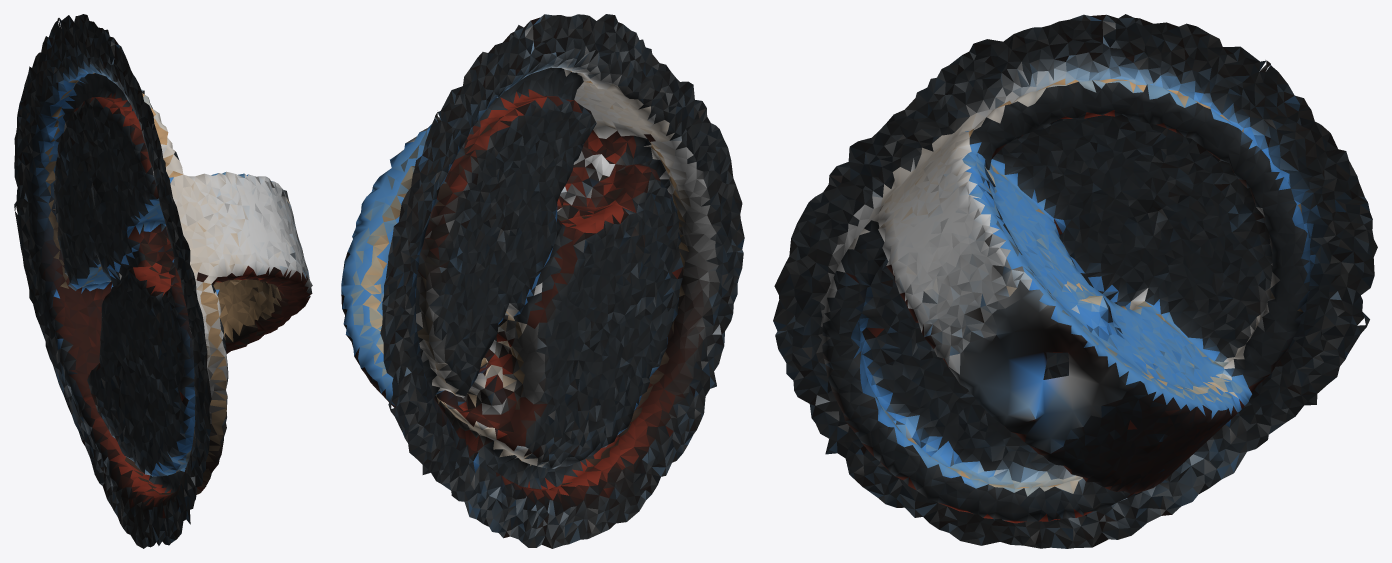
Rendered from Pond2508_Reduced.fbx.
3 views of the same model, side by side, from view 1: azimuth 30°, elevation 25°; view 2: azimuth 150°, elevation 25°; view 3: azimuth 270°, elevation 25° (orthographic). The views are drawn at different scales.
Parts seen in each view (by area): view 1: pond2508_Reduced; view 2: pond2508_Reduced; view 3: pond2508_Reduced.
Part boxes in pixels (x1,y1,x2,y2): pond2508_Reduced: [14, 14, 312, 548]; pond2508_Reduced: [341, 14, 744, 548]; pond2508_Reduced: [773, 14, 1377, 548].
Size of the model in its own units: 903 by 2034 by 2026.
